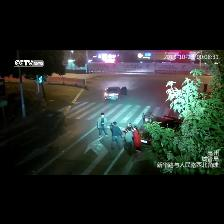person: (110, 122, 123, 151), (97, 113, 108, 137), (133, 126, 141, 152), (125, 131, 133, 157)
